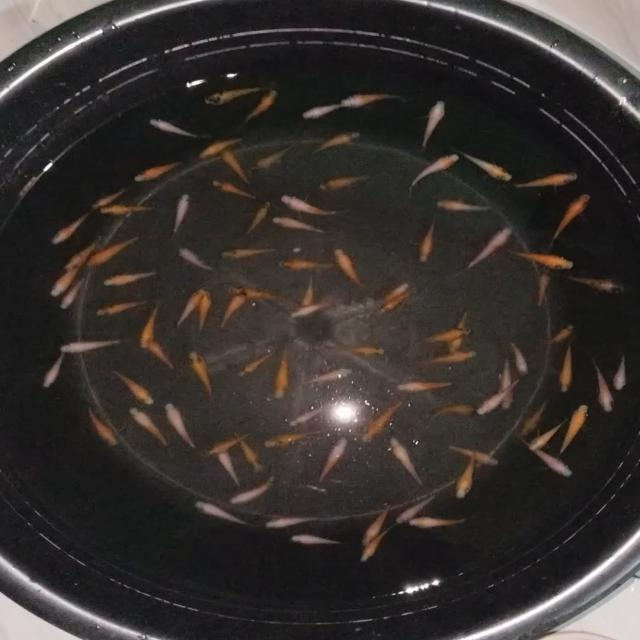nila: (76, 228, 152, 271), (542, 190, 592, 251), (456, 221, 514, 270), (355, 397, 408, 447), (102, 363, 160, 408), (559, 266, 636, 298), (190, 495, 256, 532), (404, 153, 460, 195), (76, 402, 126, 449), (200, 75, 266, 110), (126, 403, 172, 453), (476, 370, 523, 418), (415, 96, 453, 152), (125, 154, 187, 188), (240, 85, 284, 132), (388, 434, 426, 488), (277, 188, 345, 218), (162, 396, 198, 452), (394, 488, 444, 528), (232, 429, 274, 476), (555, 401, 589, 459), (528, 440, 574, 482), (230, 471, 278, 511), (358, 520, 396, 569), (508, 245, 576, 272), (258, 509, 329, 534), (359, 501, 394, 550), (213, 138, 247, 188), (444, 440, 500, 470), (47, 257, 85, 301), (214, 286, 252, 330), (209, 441, 247, 485), (170, 284, 206, 330), (316, 436, 349, 486), (285, 298, 346, 325), (459, 151, 512, 182), (527, 416, 568, 456), (100, 263, 163, 289), (54, 332, 122, 356), (91, 294, 145, 324), (339, 87, 406, 111), (510, 170, 586, 191), (142, 115, 208, 139), (333, 244, 366, 292), (196, 131, 250, 160), (188, 349, 216, 404), (269, 212, 333, 236), (136, 335, 176, 373), (251, 137, 295, 171), (215, 239, 282, 261), (297, 130, 358, 154), (164, 190, 193, 240), (590, 354, 614, 414), (373, 286, 421, 316), (266, 352, 292, 406), (414, 216, 442, 266), (526, 265, 554, 314), (54, 209, 90, 247), (403, 514, 478, 532), (198, 429, 248, 456), (234, 346, 276, 378), (436, 195, 506, 214), (139, 298, 163, 353), (262, 427, 324, 448), (448, 304, 474, 354), (313, 170, 366, 194), (60, 270, 90, 312), (66, 233, 98, 272), (230, 282, 292, 302), (40, 346, 68, 390), (374, 277, 412, 309), (206, 175, 254, 199), (92, 200, 156, 218), (178, 248, 218, 276), (327, 344, 392, 361), (284, 402, 332, 425), (454, 449, 476, 499), (88, 183, 127, 211), (241, 198, 268, 238), (300, 368, 354, 388), (520, 401, 550, 437), (421, 404, 478, 422), (287, 532, 351, 548), (424, 350, 480, 368), (504, 338, 530, 376), (276, 258, 337, 274), (498, 357, 516, 411), (296, 102, 344, 121), (396, 378, 464, 391), (301, 269, 323, 309), (424, 326, 478, 342), (546, 318, 574, 348), (561, 338, 575, 395), (196, 288, 213, 332), (614, 353, 630, 394)
